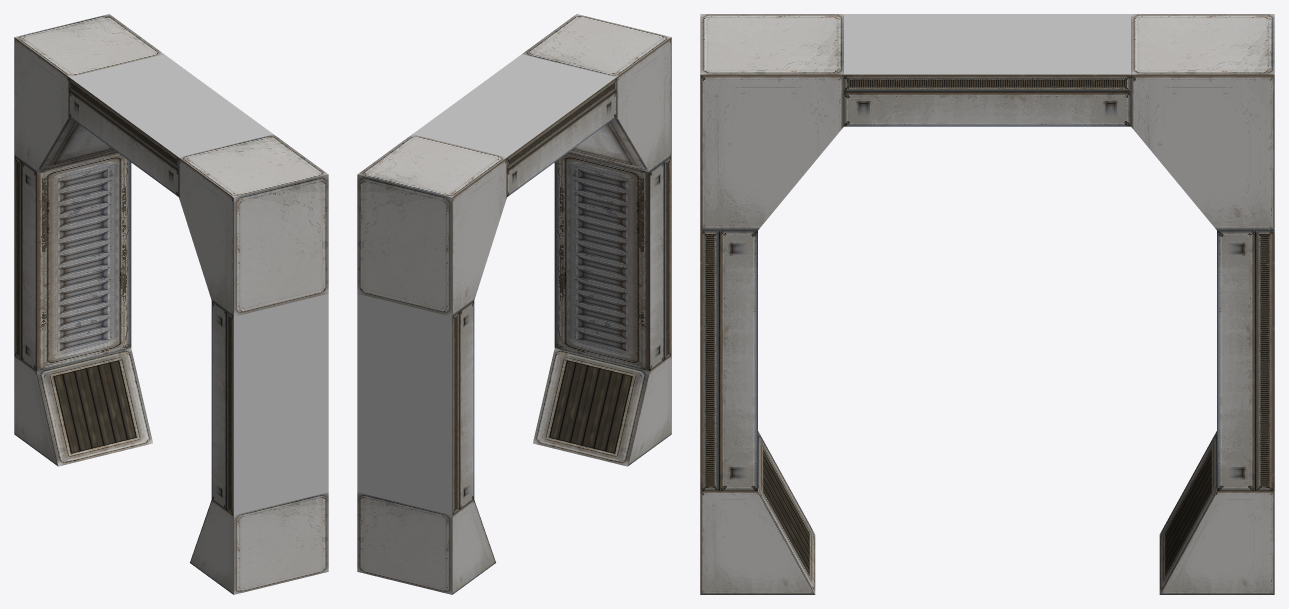
Rendered from scifi_portal.FBX.
3 views of the same model, side by side, from view 1: azimuth 30°, elevation 25°; view 2: azimuth 150°, elevation 25°; view 3: azimuth 270°, elevation 25° (orthographic). The views are drawn at different scales.
Parts seen in each view (by area): view 1: Box007; view 2: Box007; view 3: Box007.
Part boxes in pixels (x1,y1,x2,y2): Box007: [14, 14, 328, 594]; Box007: [357, 14, 671, 594]; Box007: [700, 14, 1274, 594].
Size of the model in its own units: 127 by 508 by 508.
